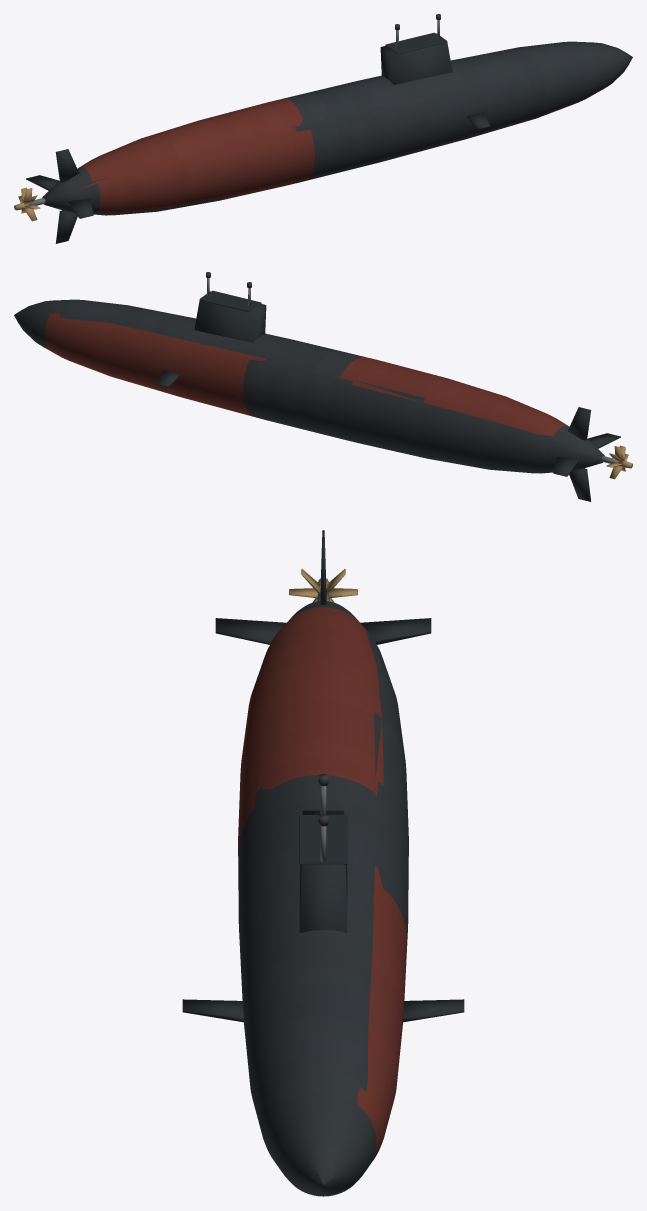
The model's file is US_SSN_Skipjack_LOD2.fbx.
3 views of the same model, one above another, from view 1: azimuth 30°, elevation 25°; view 2: azimuth 150°, elevation 25°; view 3: azimuth 270°, elevation 25° (orthographic). The views are drawn at different scales.
Parts seen in each view (by area): view 1: US_SSN_Skipjack_LOD2; view 2: US_SSN_Skipjack_LOD2; view 3: US_SSN_Skipjack_LOD2.
Boxes of the visible parts, x1,y1,x2,y2 form: US_SSN_Skipjack_LOD2: [14, 14, 632, 243]; US_SSN_Skipjack_LOD2: [14, 272, 632, 501]; US_SSN_Skipjack_LOD2: [182, 530, 464, 1196].
Bounding box in the file's own units: 80.46 × 15.9 × 16.84.
6 materials, 1 textured.
